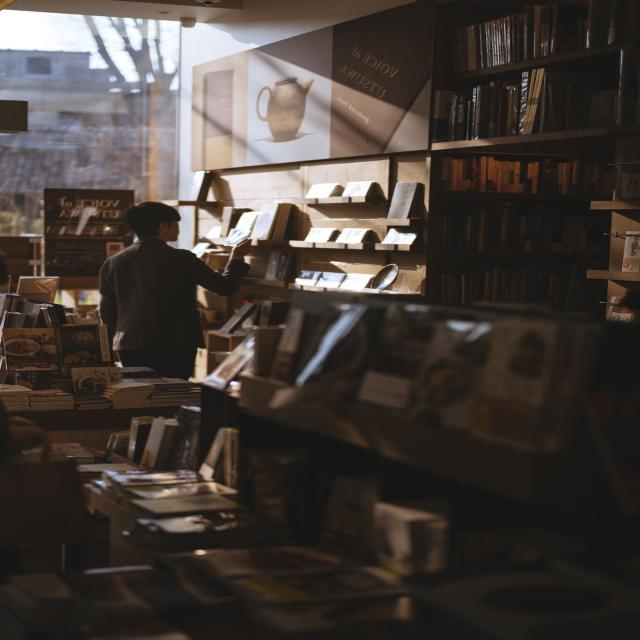adult: (90, 198, 216, 378)
